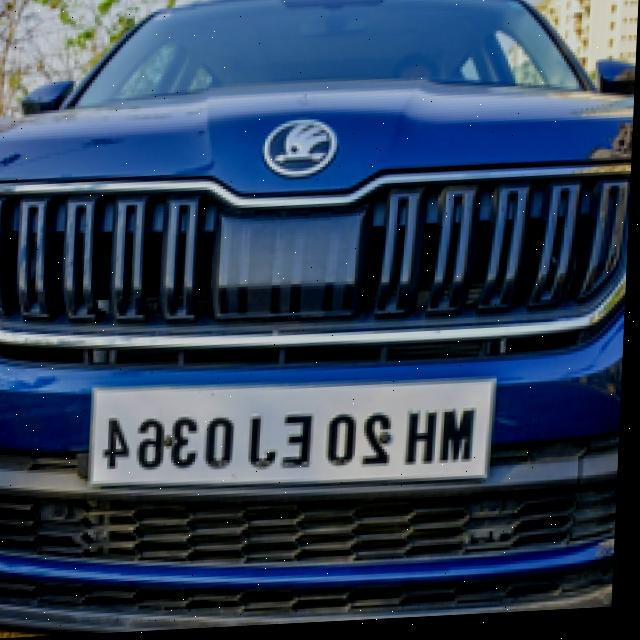plate: (93, 375, 501, 511)
